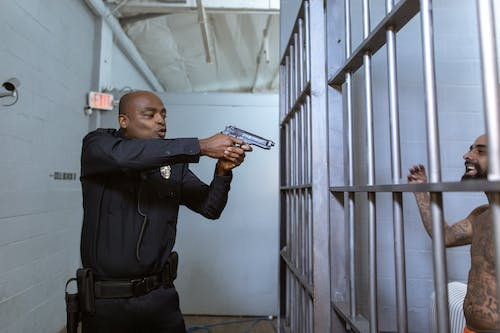gun: (219, 124, 274, 151)
